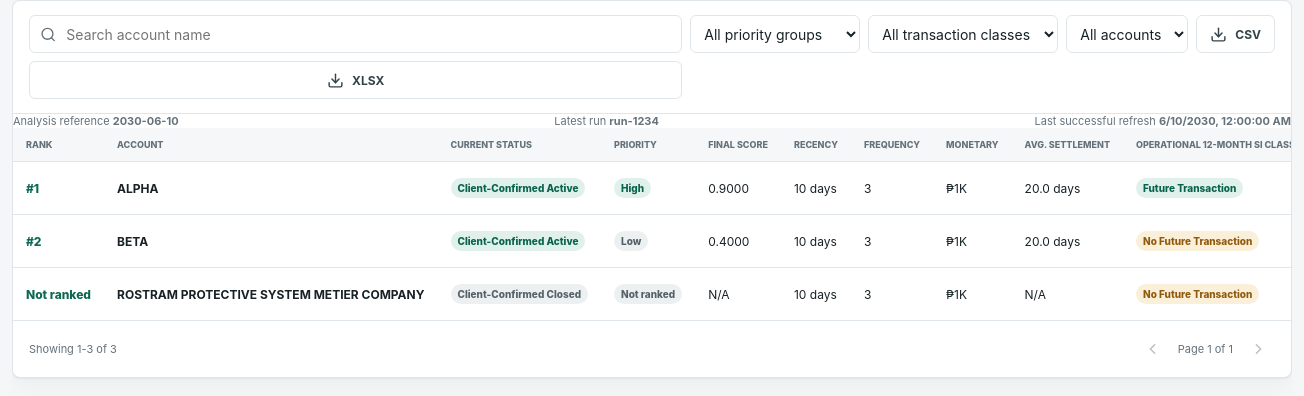
Test case: search and priority filters operate on the unified API account data
Expected: the text "ALPHA" is shown, 117,180 -> 158,196
Expected: the text "ROSTRAM PROTECTIVE SYSTEM METIER COMPANY" is shown, 117,286 -> 424,302
Type "beta" into the field named "Search accounts" at (368, 34), box 64,16 -> 671,52
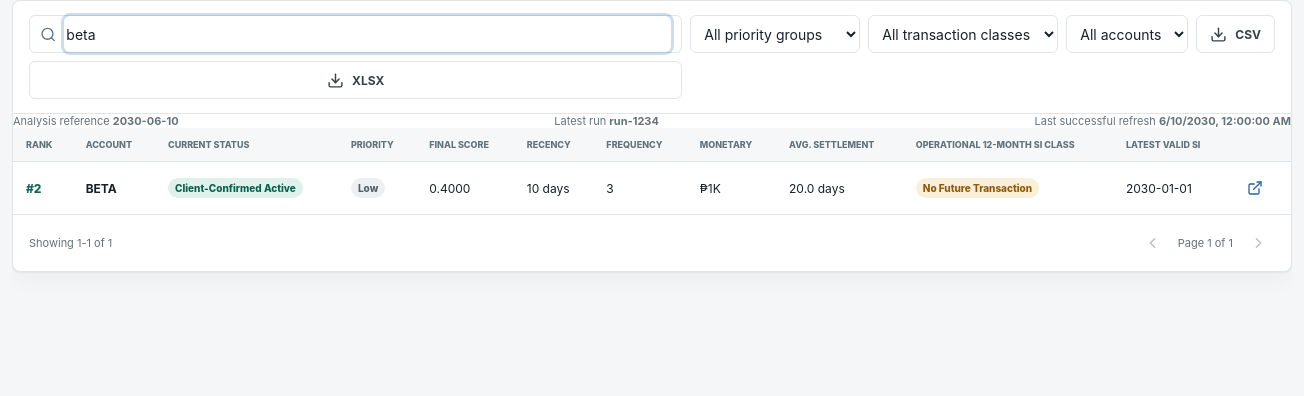
Expected: the text "BETA" is shown, 86,180 -> 117,196
Result: the text "ALPHA" is gone
Clear the field named "Search accounts" at (368, 34), box 64,16 -> 671,52
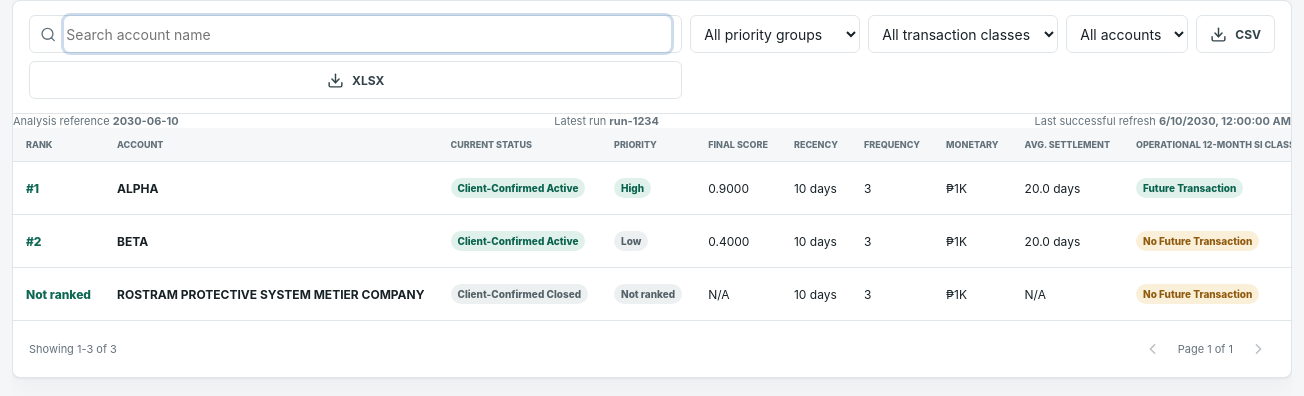
Select "High" in the dropdown named "Priority Group" at (775, 34), box 690,15 -> 860,53
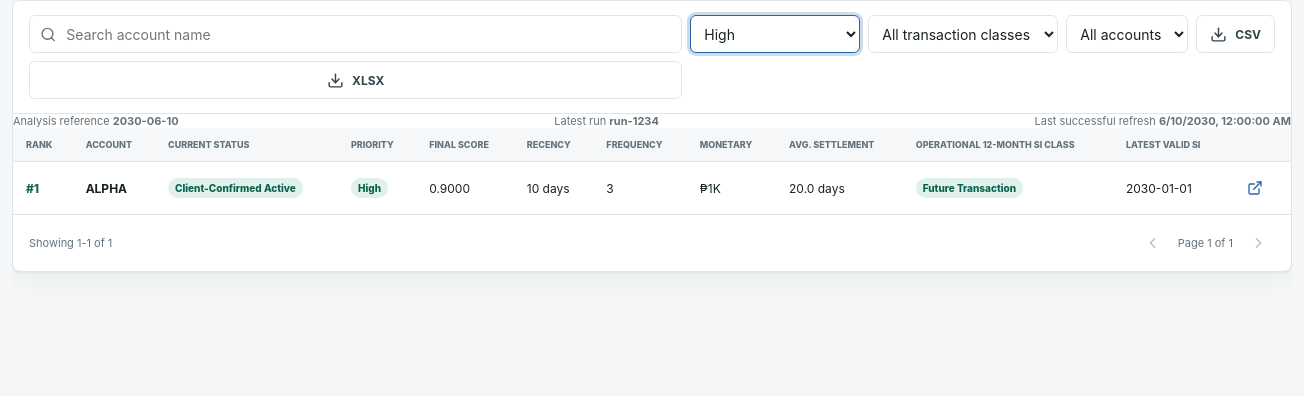
Result: the text "ALPHA" is shown at 86,180 -> 127,196
Result: the text "BETA" is gone
